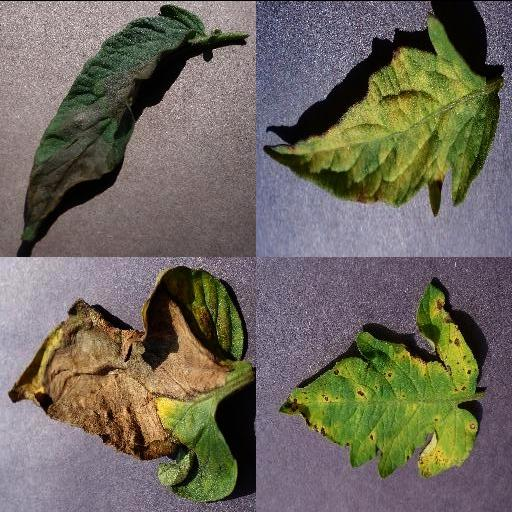Late Blight: (7, 263, 245, 501), (20, 2, 208, 242)
Leaf Mold: (263, 13, 499, 217)
Septoria: (278, 282, 480, 475)
